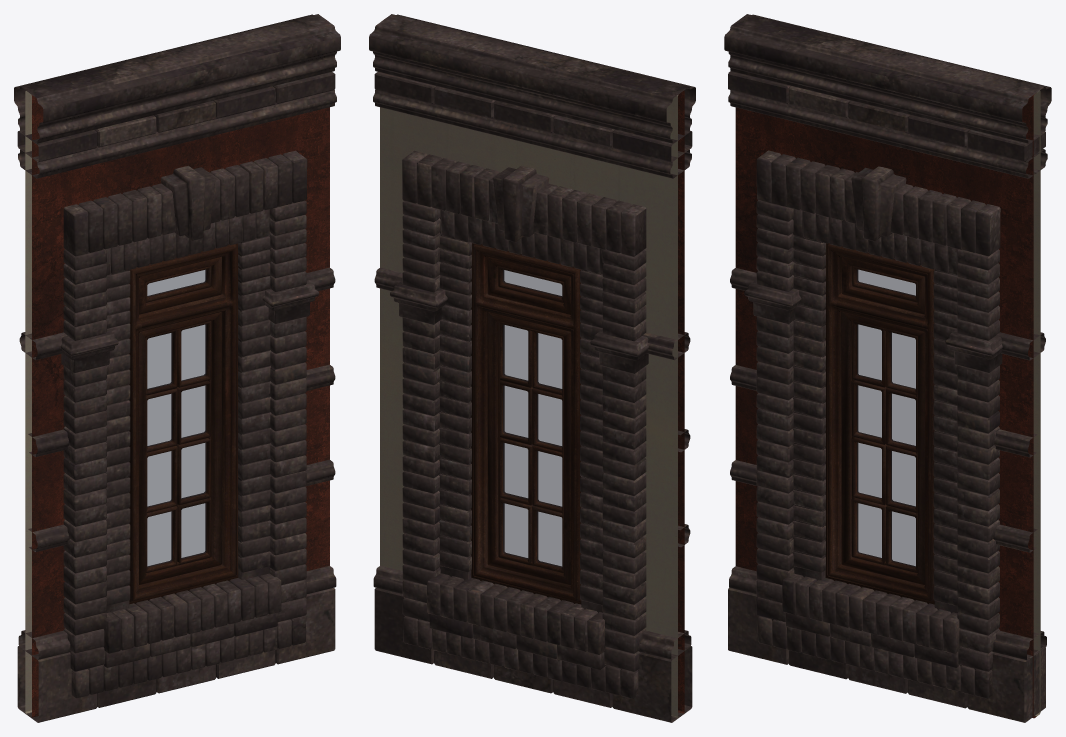
The model's file is SK2 WINDOW 1.fbx.
The picture shows the model from 3 angles, left to right: view 1: azimuth 30°, elevation 25°; view 2: azimuth 150°, elevation 25°; view 3: azimuth 330°, elevation 25°; orthographic projection.
Parts seen in each view (by area): view 1: SK2 WINDOW 1; view 2: SK2 WINDOW 1; view 3: SK2 WINDOW 1.
Part boxes in pixels (x1,y1,x2,y2): SK2 WINDOW 1: (14, 14, 340, 722); SK2 WINDOW 1: (369, 14, 695, 722); SK2 WINDOW 1: (724, 14, 1051, 722).
Size of the model in its own units: 200 by 400 by 48.22.
